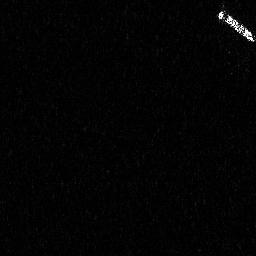ship: (215, 7, 256, 45)
